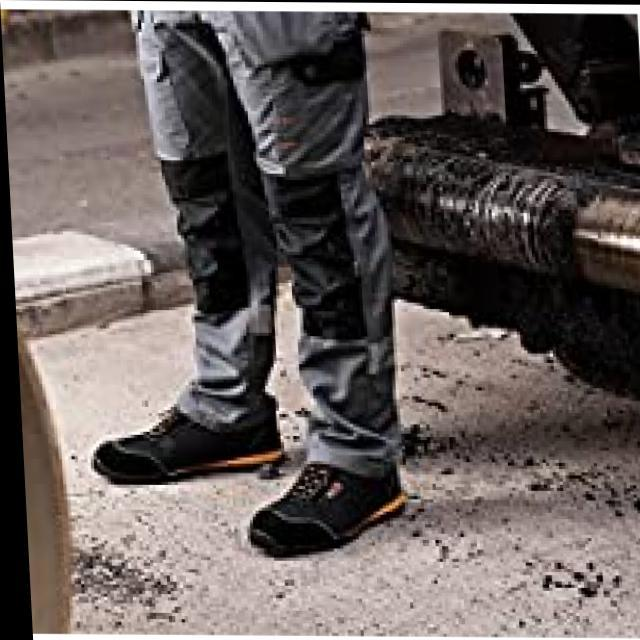shoes: (81, 373, 418, 561)
